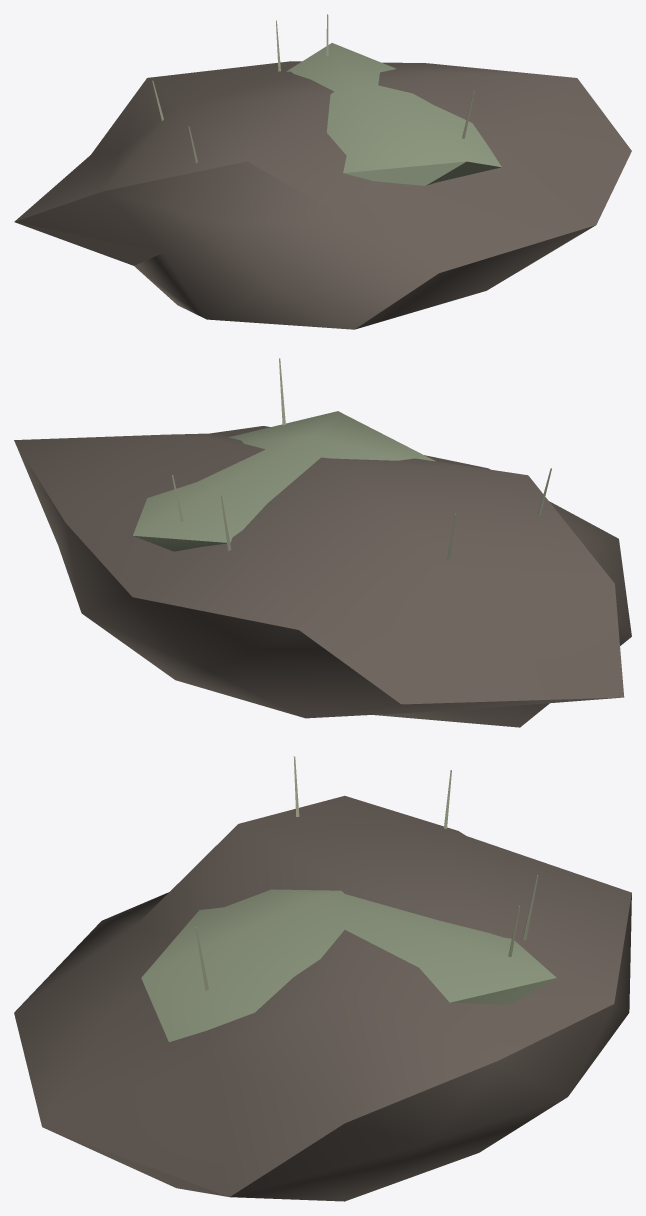
File: peat_mound.gltf
The picture shows the model from 3 angles, top to bottom: view 1: azimuth 30°, elevation 25°; view 2: azimuth 150°, elevation 25°; view 3: azimuth 270°, elevation 25°; orthographic projection. The views are drawn at different scales.
Parts seen in each view (by area): view 1: Body; view 2: Body; view 3: Body.
Part boxes in pixels (x1,y1,x2,y2): Body: (14, 14, 631, 329); Body: (14, 358, 631, 727); Body: (14, 756, 631, 1201).
Bounding box in the file's own units: 3.58 × 1.23 × 2.55.
